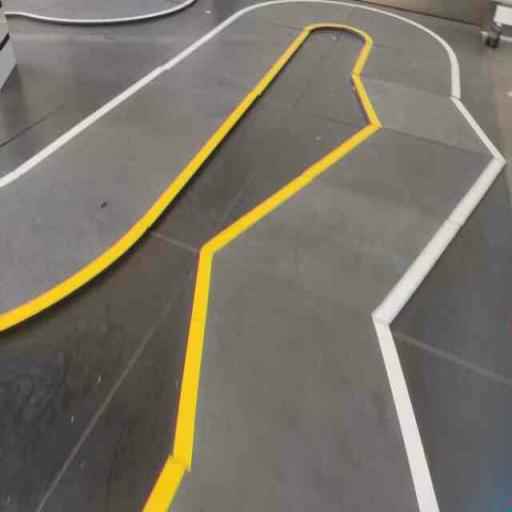crossleft: (143, 241, 444, 511)
